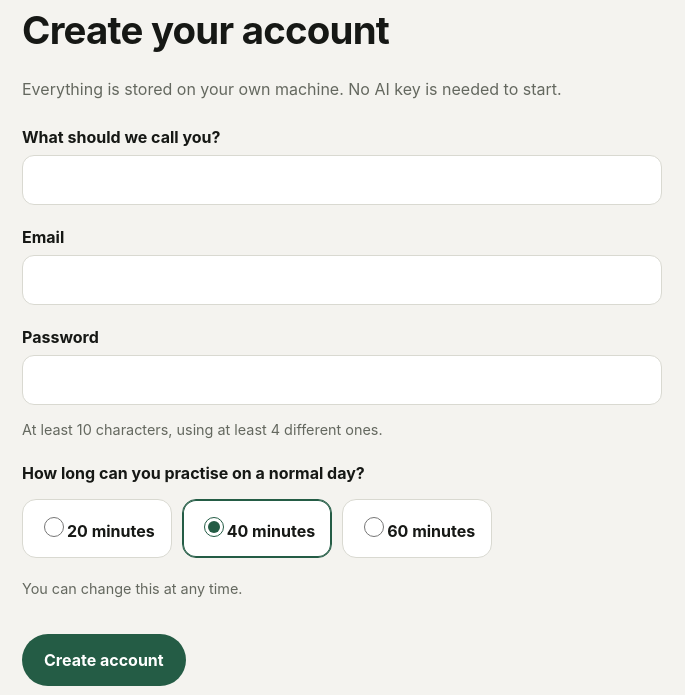
Test: errors › announces a weak password and marks the field invalid
Type "Egor" into the field labelled "What should we call you?". click: (342, 180)
box: [22, 155, 662, 205]
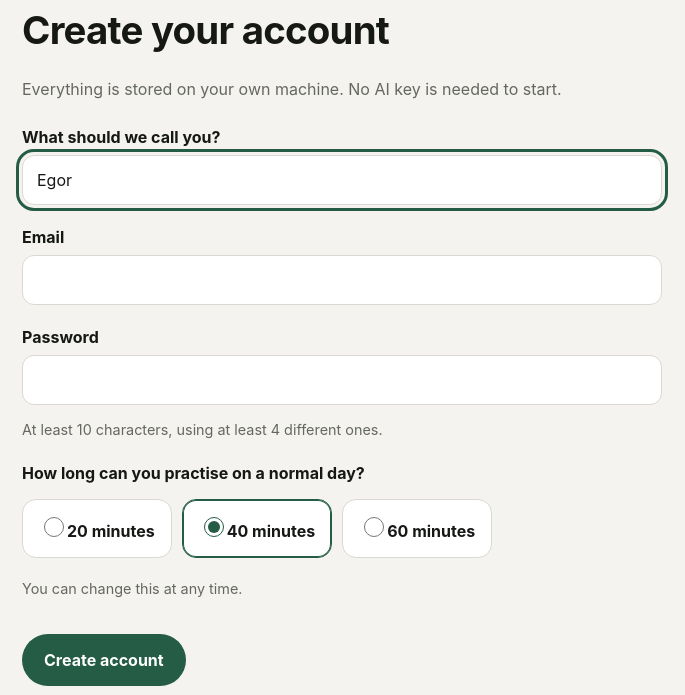
Type "egor@example.com" into the field labelled "Email". click: (342, 280)
box: [22, 255, 662, 305]
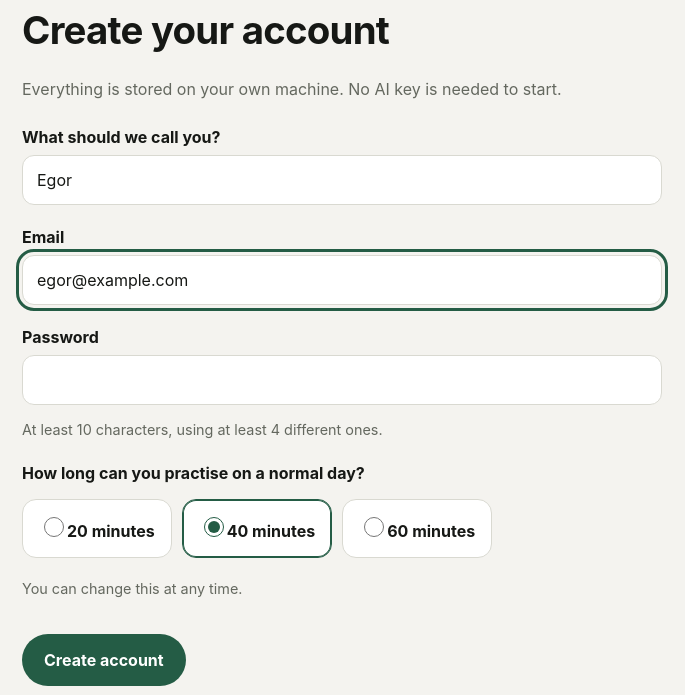
Type "short" into the password field labelled "Password". click: (342, 380)
box: [22, 355, 662, 405]
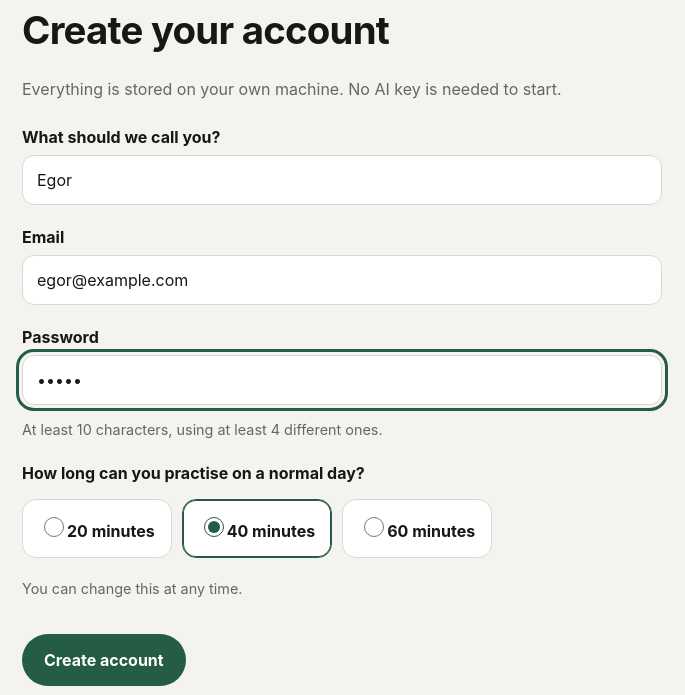
Click the button "Create account". click: (104, 660)
box: [22, 634, 186, 686]
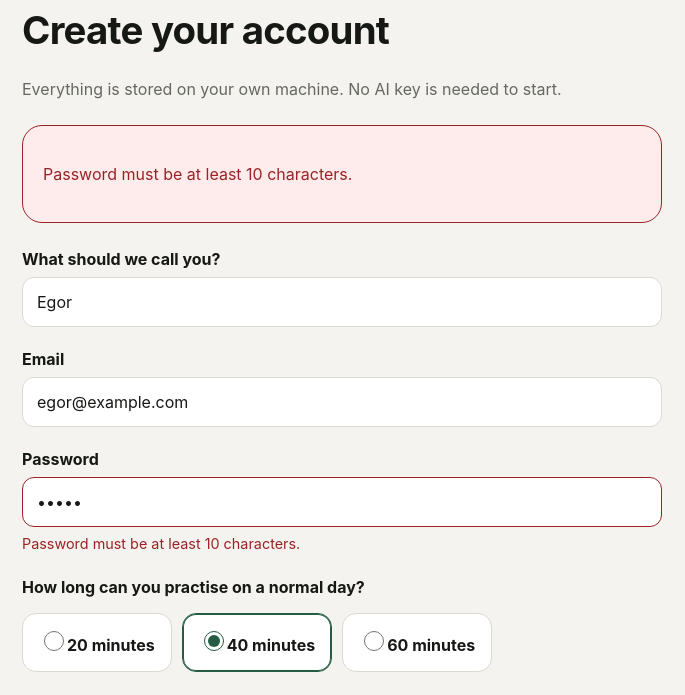
Result: the message shows "at least 10 characters" at [43, 164, 352, 184]
